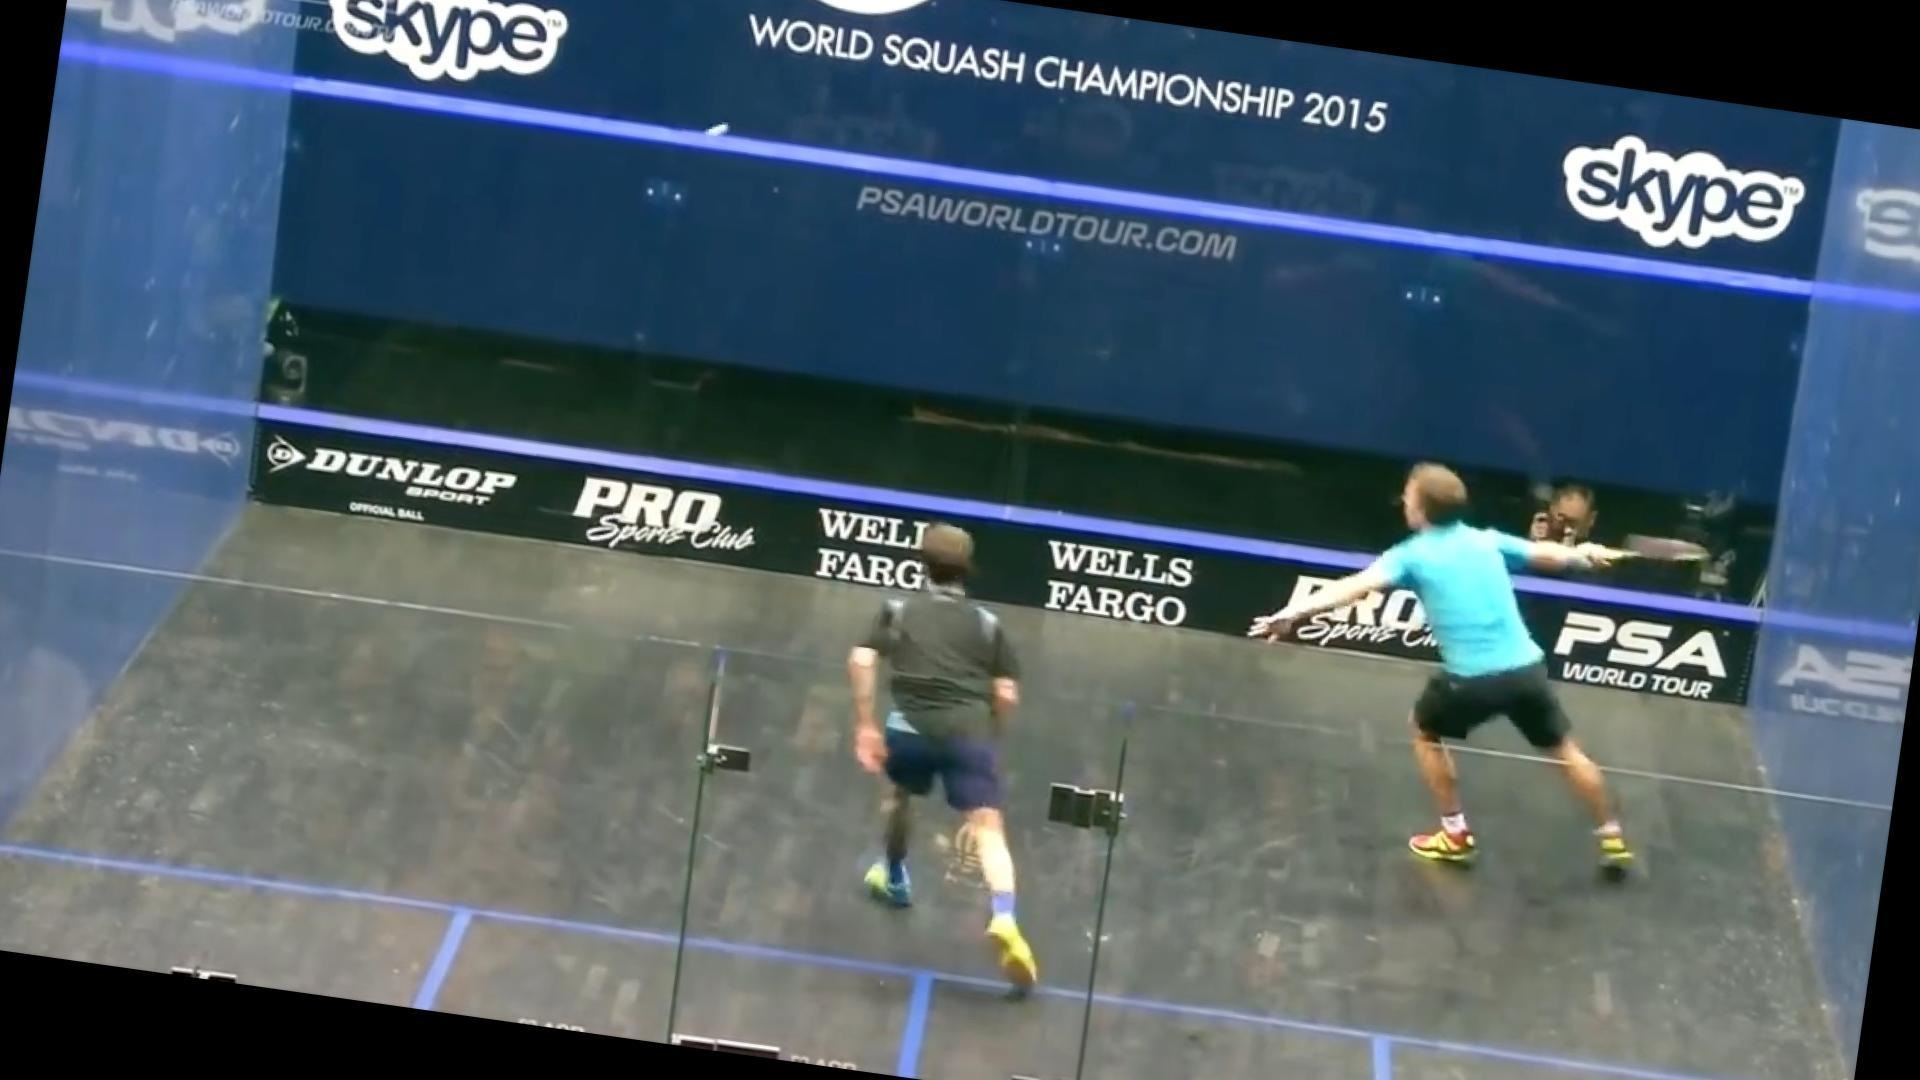Squash-Ball: (684, 105, 745, 158)
